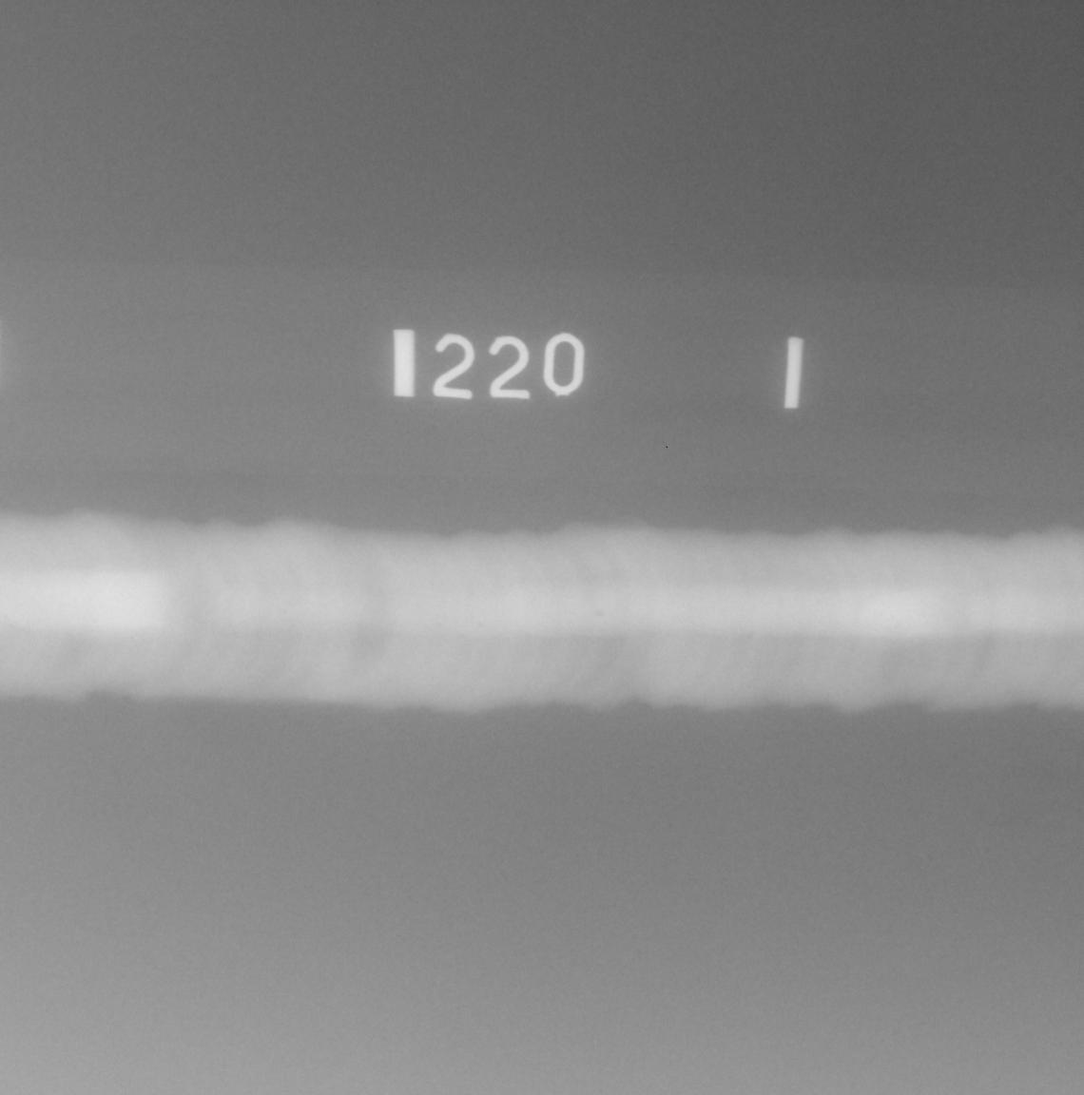Pore/Porosity: (747, 631, 755, 639), (596, 610, 604, 617), (437, 622, 441, 627), (479, 623, 483, 627)
